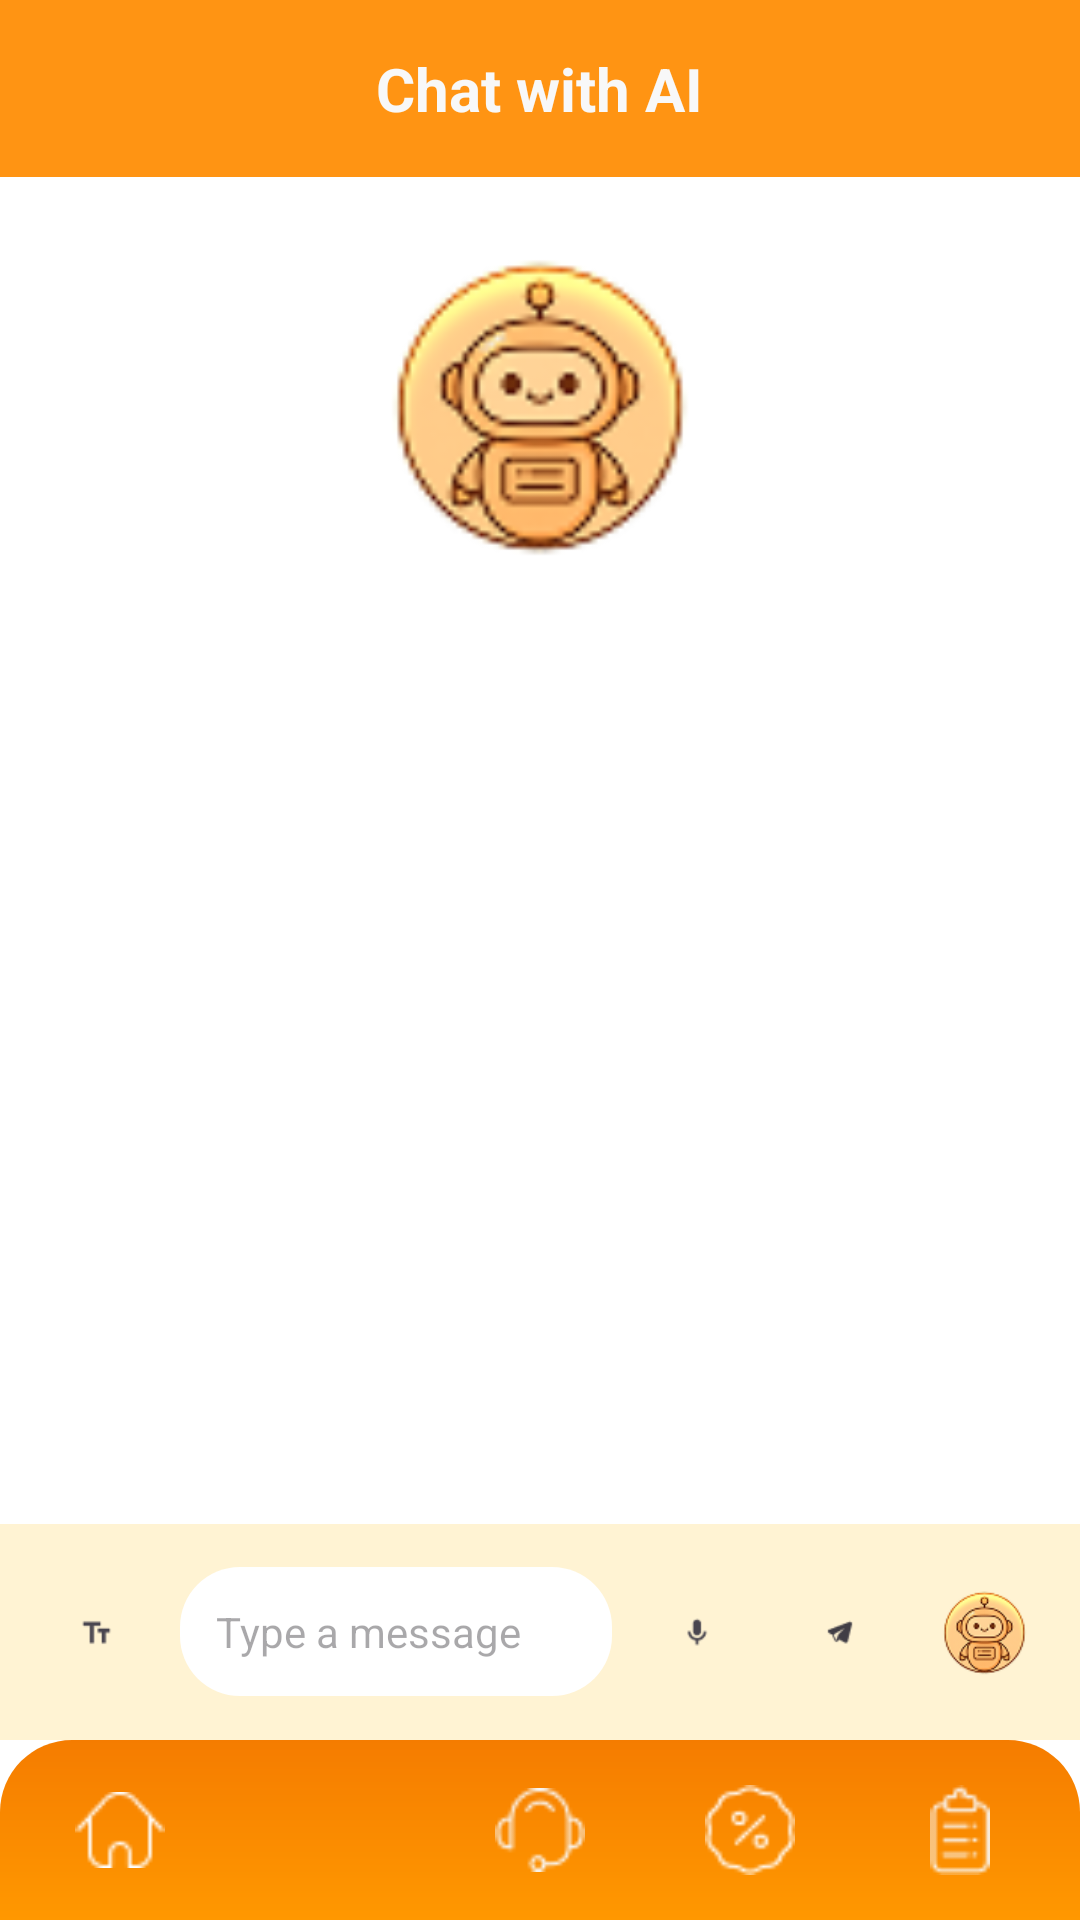

Where icons sit on this 1080*1920 app screen, as (x1, y1, x2, y2):
mic: (687, 1619, 707, 1646)
send: (827, 1621, 853, 1644)
